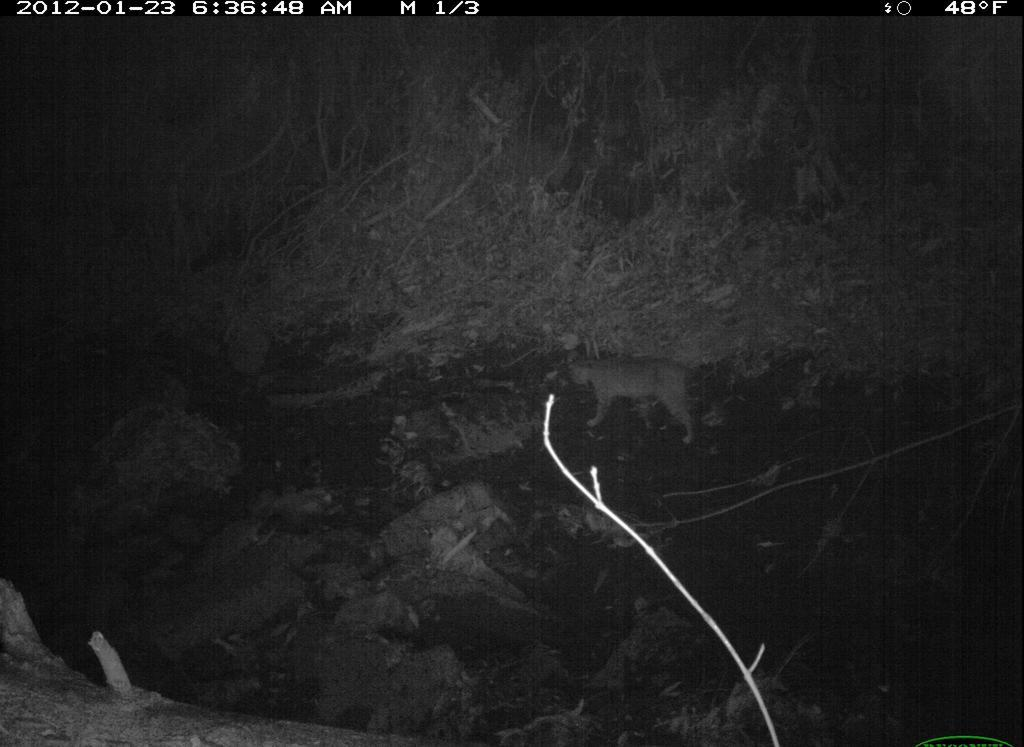bobcat: (570, 341, 717, 451)
